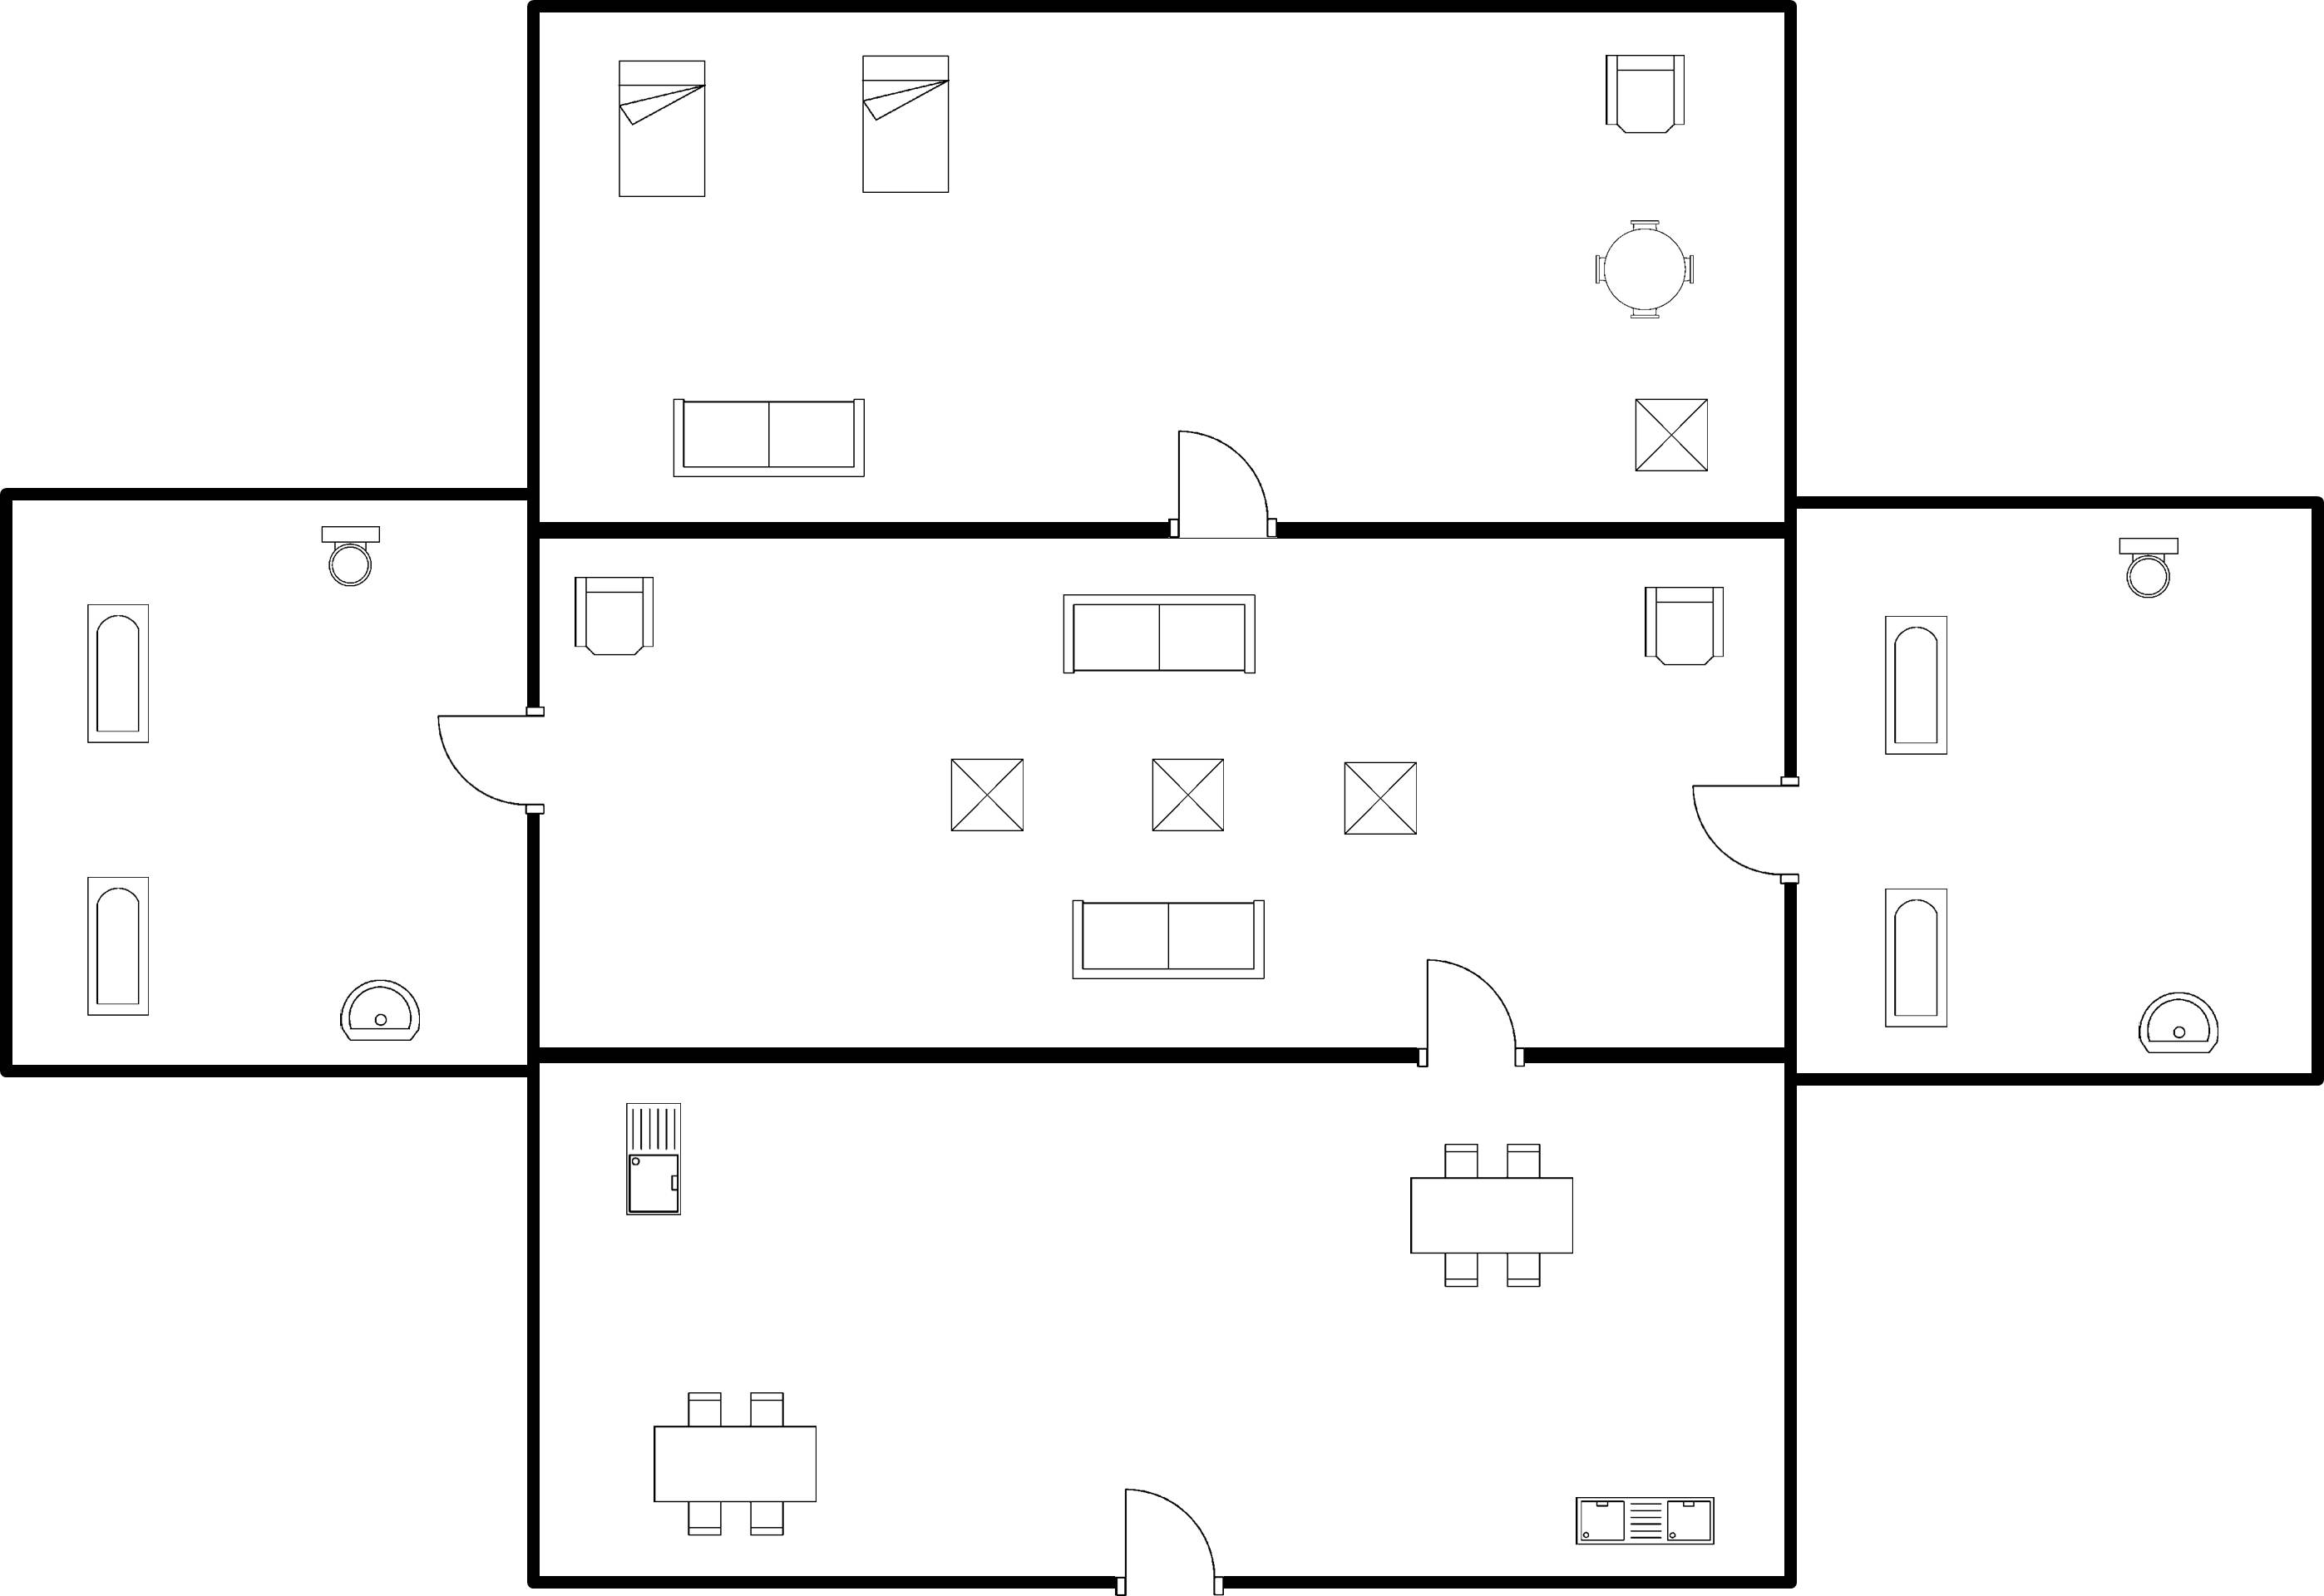armchair: (1593, 45, 1696, 151), (564, 564, 665, 667), (1633, 574, 1733, 680)
bed: (848, 43, 965, 204), (605, 53, 717, 206)
coffee_table: (1327, 750, 1430, 845), (1141, 748, 1237, 846), (936, 748, 1034, 843), (1625, 389, 1716, 484)
dining_table: (634, 1378, 828, 1549), (1399, 1129, 1586, 1302)
large_sink: (306, 510, 389, 592), (2104, 527, 2187, 607)
large_sofa: (1046, 580, 1267, 688), (1056, 886, 1274, 991), (662, 389, 876, 490)
round_table: (1585, 206, 1711, 328)
sink: (609, 1091, 692, 1227)
small_sink: (2122, 979, 2230, 1067), (331, 966, 427, 1049)
tub: (1869, 878, 1959, 1039), (75, 587, 161, 753), (1873, 603, 1961, 768), (73, 863, 158, 1029)
twin_sink: (1562, 1488, 1728, 1556)
